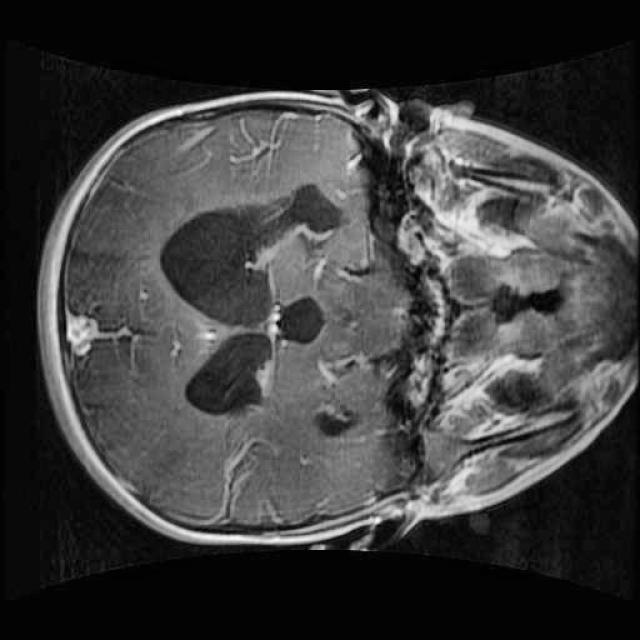Tumor: (152, 176, 356, 333)
